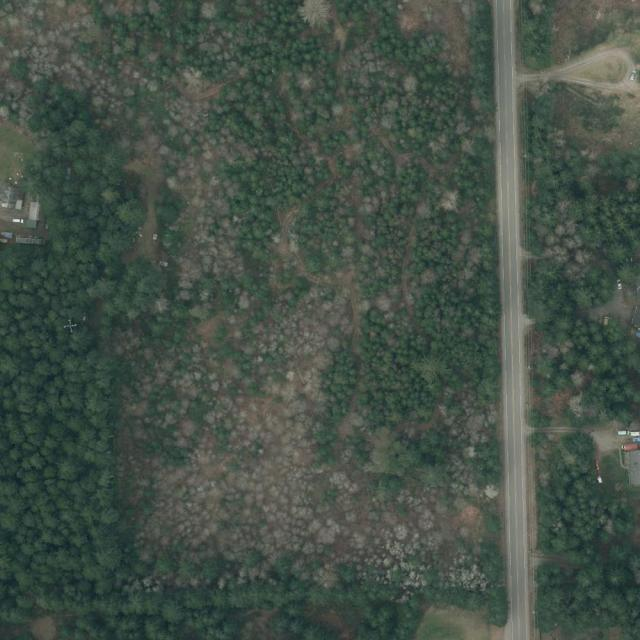building: (619, 431, 640, 485), (27, 200, 40, 220), (16, 237, 46, 245), (1, 231, 12, 240), (26, 219, 37, 228)
greenland: (536, 431, 640, 640)
unmetalled_road: (569, 68, 636, 92), (517, 68, 568, 84), (580, 49, 633, 64), (562, 59, 585, 76), (630, 61, 635, 76)
